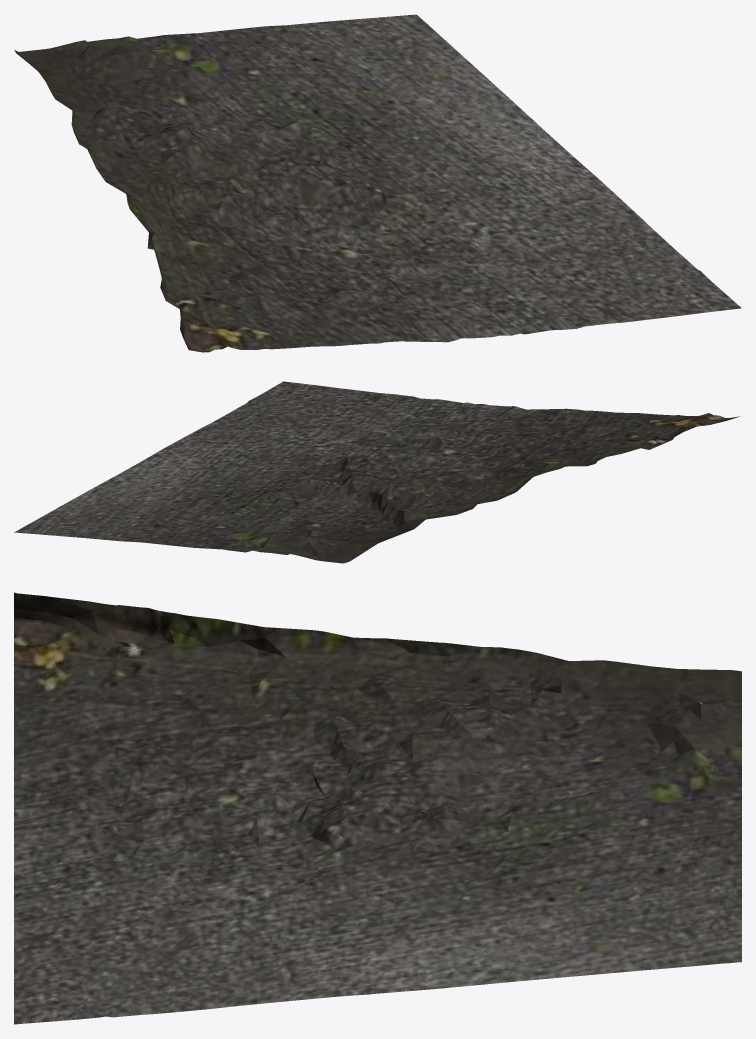
3 renders of one model, top to bottom at view 1: azimuth 30°, elevation 25°; view 2: azimuth 150°, elevation 25°; view 3: azimuth 270°, elevation 25°, orthographic. The views are drawn at different scales.
Size of the model in its own units: 1.64 by 0.3383 by 1.67.
3 materials, 3 textured.
